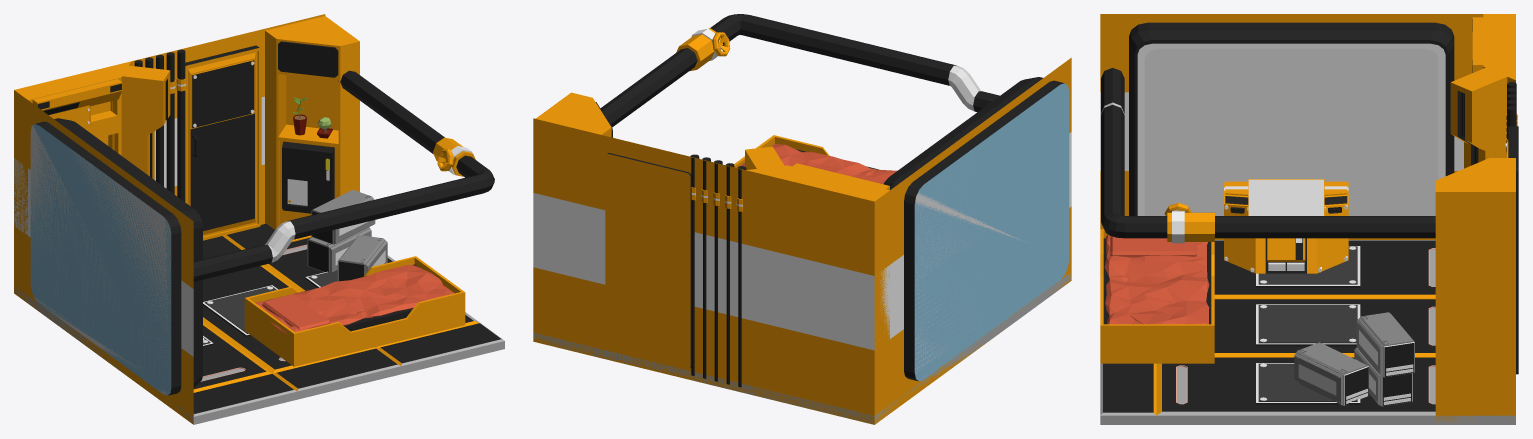
Rendered from lab2.fbx.
3 renders of one model, left to right at view 1: azimuth 30°, elevation 25°; view 2: azimuth 150°, elevation 25°; view 3: azimuth 270°, elevation 25°, orthographic. The views are drawn at different scales.
Parts seen in each view (by area): view 1: Room, Floor, Wall, Window, Door, Shelves, Pipe, Bed, Blanket, Pipes, Box.001, Box (+1 smaller); view 2: Room, Door, Pipe, Shelves, Pipes, Floor, Window, Wall, Blanket, Bed; view 3: Window, Floor, Wall, Pipe, Controller, Bed, Room, Blanket, Shelves, Box.001, Box, Box.002 (+2 smaller).
Part boxes in pixels (left/top/right/bottom): Room: left=14, top=14, right=325, bottom=424; Floor: left=14, top=223, right=504, bottom=424; Wall: left=265, top=16, right=359, bottom=229; Window: left=30, top=118, right=202, bottom=395; Door: left=185, top=45, right=261, bottom=240; Shelves: left=14, top=61, right=170, bottom=297; Pipe: left=193, top=70, right=494, bottom=281; Bed: left=244, top=256, right=465, bottom=366; Blanket: left=255, top=265, right=454, bottom=334; Pipes: left=134, top=49, right=186, bottom=201; Box.001: left=337, top=235, right=387, bottom=281; Box: left=311, top=190, right=375, bottom=244; Room: left=533, top=57, right=1071, bottom=424; Door: left=605, top=153, right=691, bottom=369; Pipe: left=600, top=14, right=999, bottom=126; Shelves: left=745, top=146, right=889, bottom=409; Pipes: left=690, top=154, right=746, bottom=387; Floor: left=533, top=273, right=1071, bottom=424; Window: left=884, top=77, right=1042, bottom=381; Wall: left=535, top=92, right=612, bottom=137; Blanket: left=741, top=144, right=897, bottom=184; Bed: left=734, top=135, right=878, bottom=169; Window: left=1129, top=22, right=1454, bottom=215; Floor: left=1100, top=240, right=1515, bottom=424; Wall: left=1435, top=158, right=1515, bottom=422; Pipe: left=1101, top=68, right=1435, bottom=243; Controller: left=1224, top=179, right=1348, bottom=273; Bed: left=1100, top=229, right=1214, bottom=363; Room: left=1100, top=14, right=1483, bottom=239; Blanket: left=1104, top=234, right=1209, bottom=324; Shelves: left=1450, top=14, right=1515, bottom=168; Box.001: left=1294, top=342, right=1368, bottom=405; Box: left=1356, top=312, right=1414, bottom=377; Box.002: left=1354, top=347, right=1412, bottom=406.
Size of the model in its own units: 415 by 250 by 403.
Materials: 3 (1 with a texture image).
